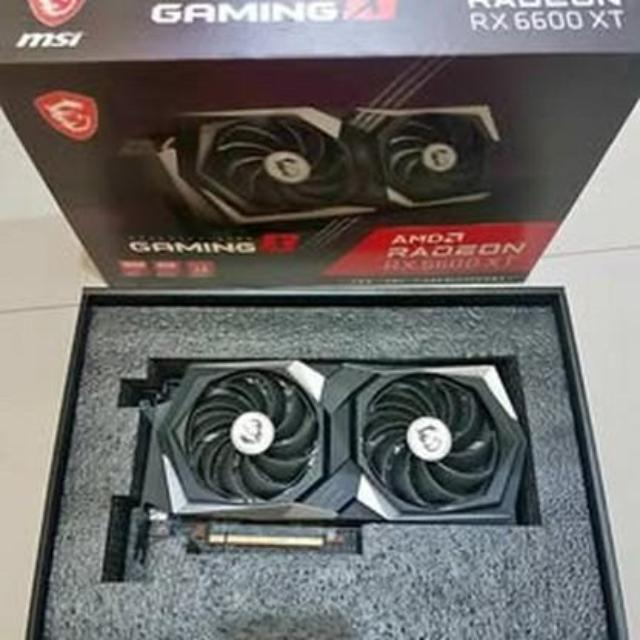GPU: (126, 358, 531, 550)
